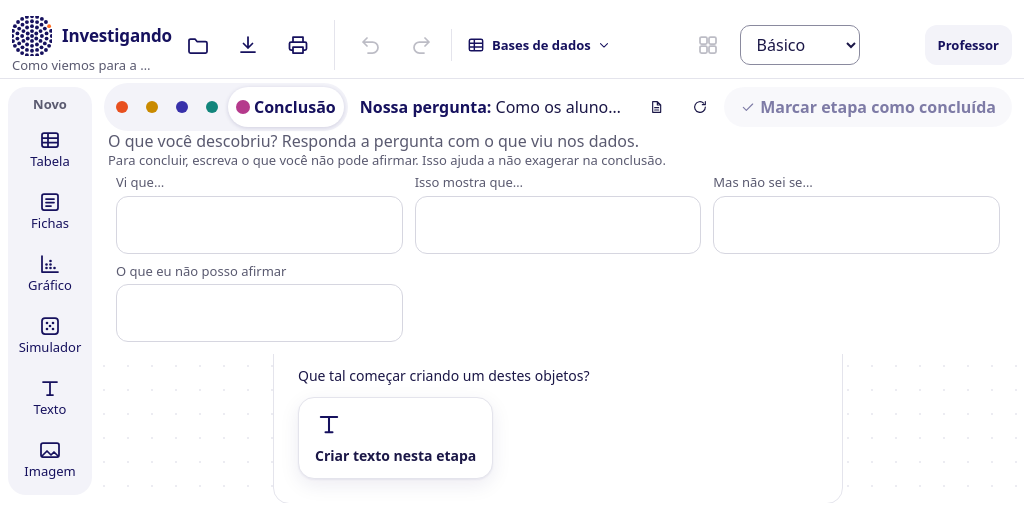
mesa por etapa › etapa vazia mostra convite com os objetos sugeridos, ligados aos mesmos dados
(page scrolled)
Click the button "Criar texto nesta etapa": {"x": 396, "y": 438} [298, 397, 493, 479]
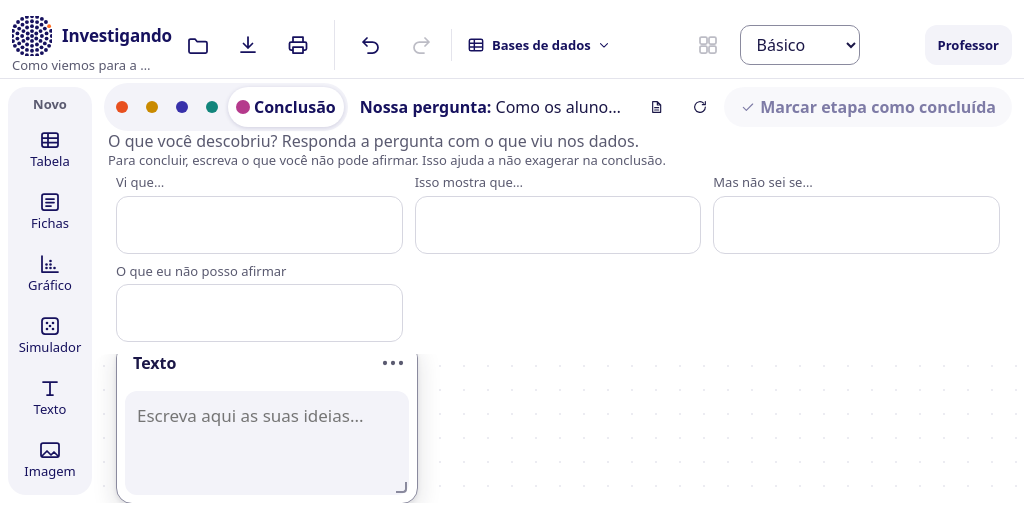
expect the message with test id "convite-etapa" is gone: met
